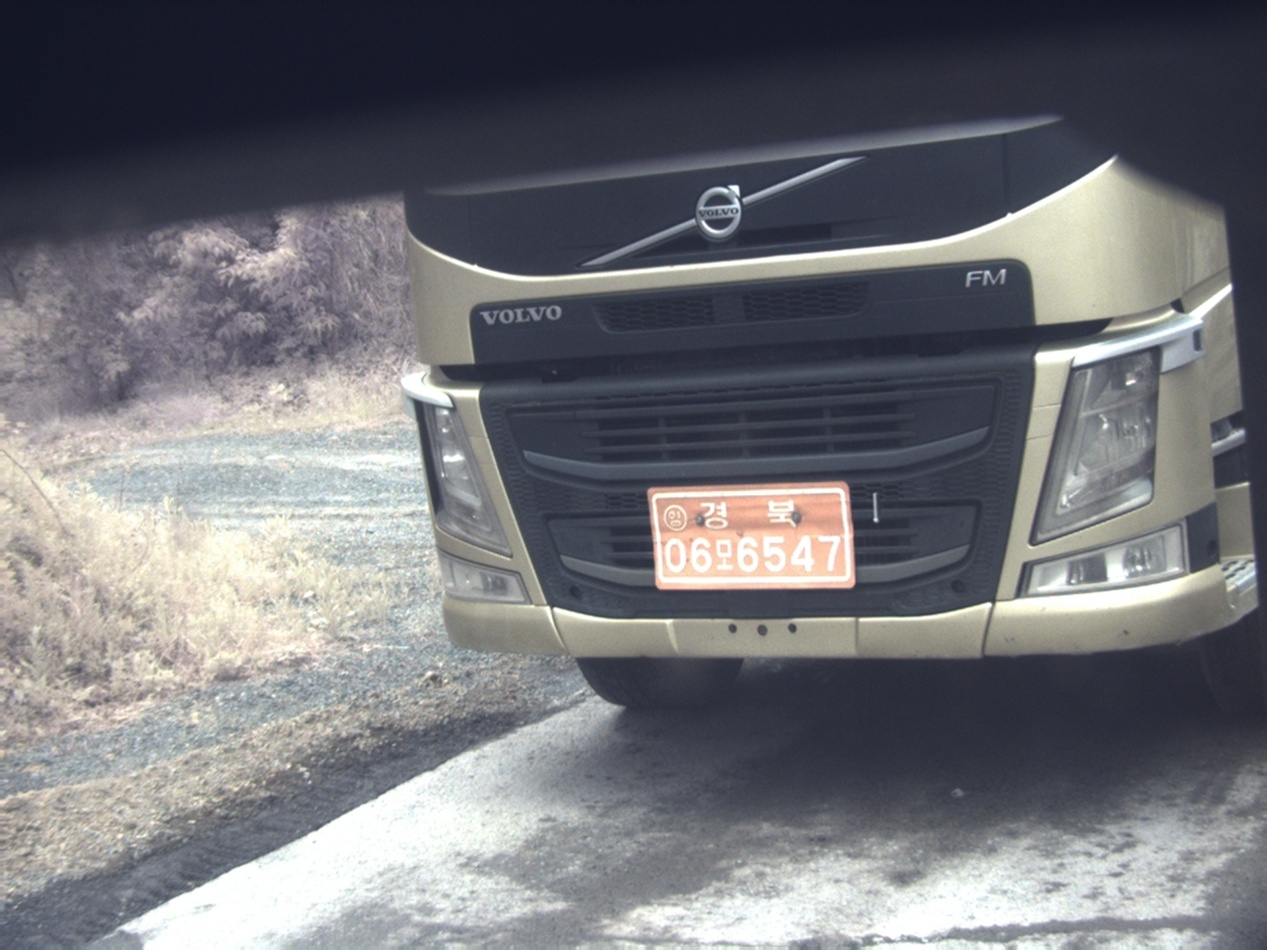license_plate: (648, 482, 854, 588)
truck: (406, 117, 1265, 709)
